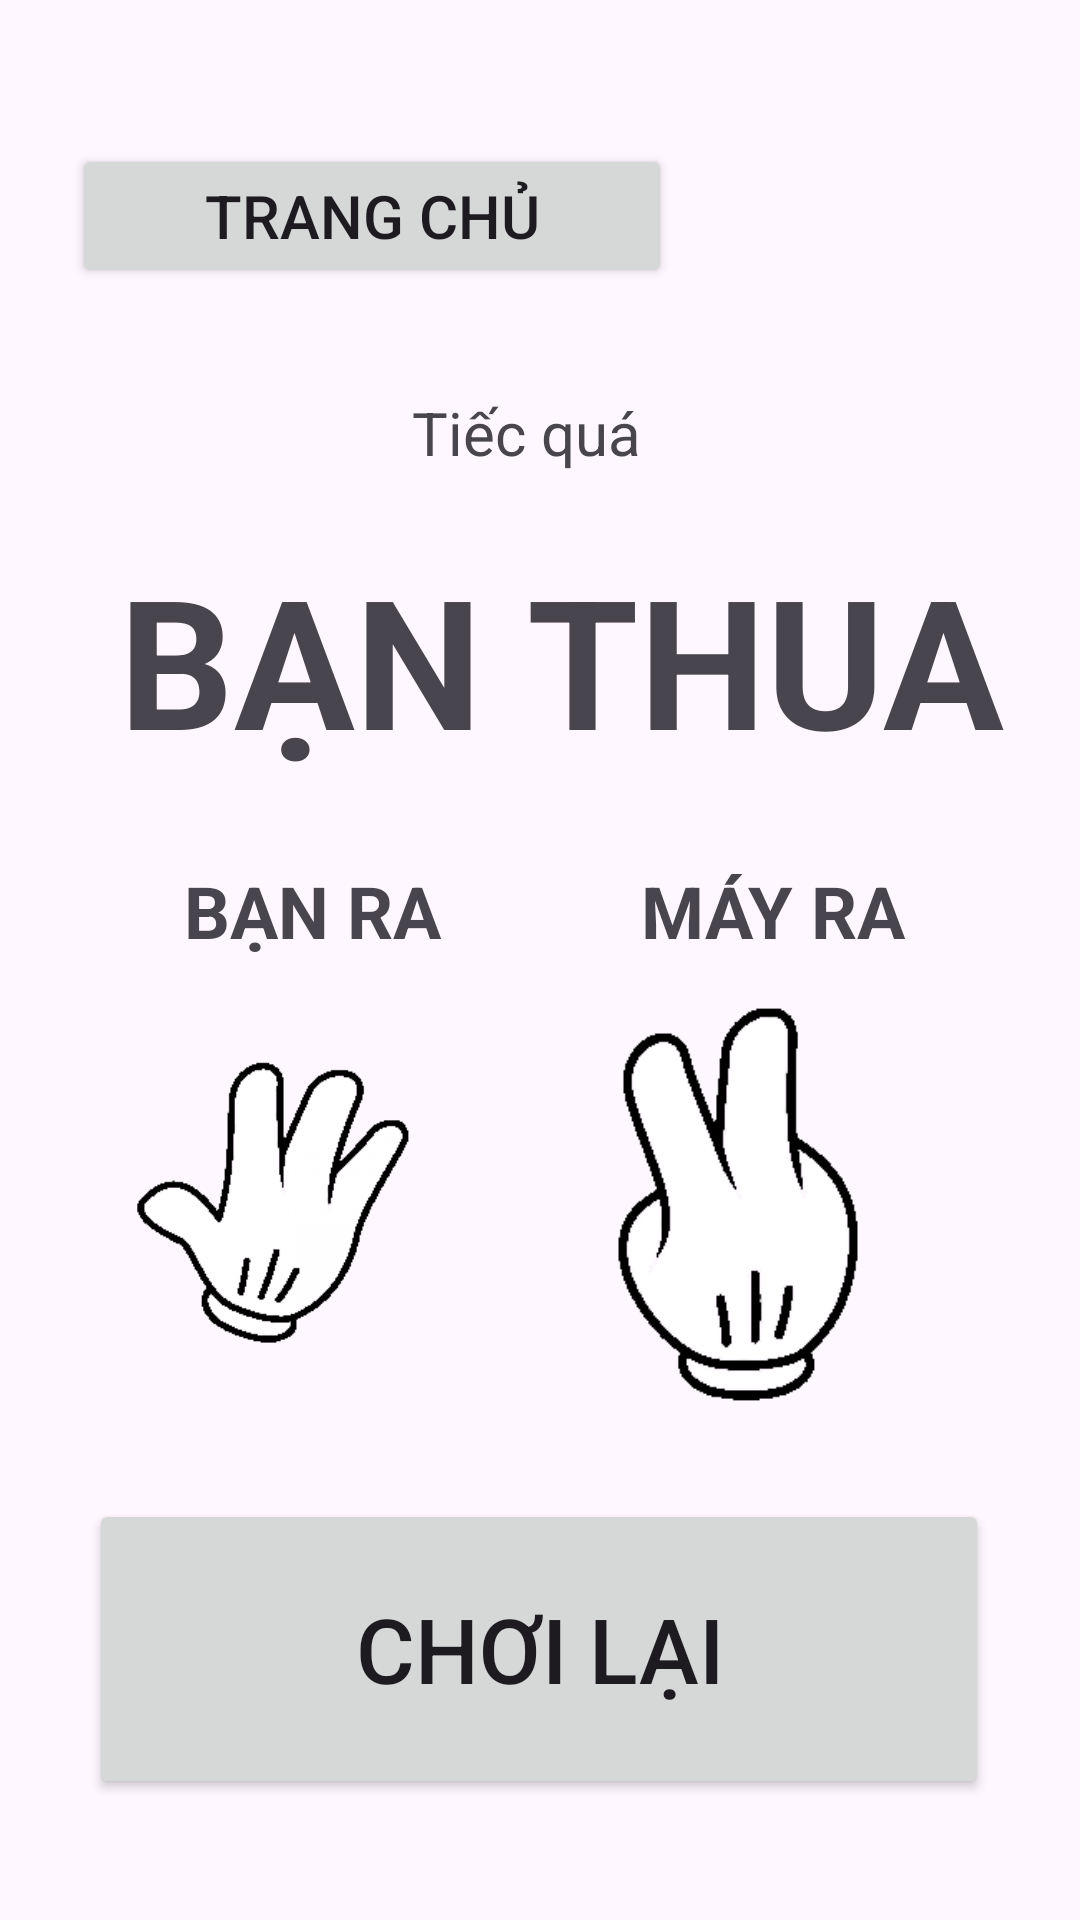

Named icons in this screenshot (1080*1920) and their bounding boxes, [x1,y1,x2,y2]:
bao: [137,1062,409,1343]
